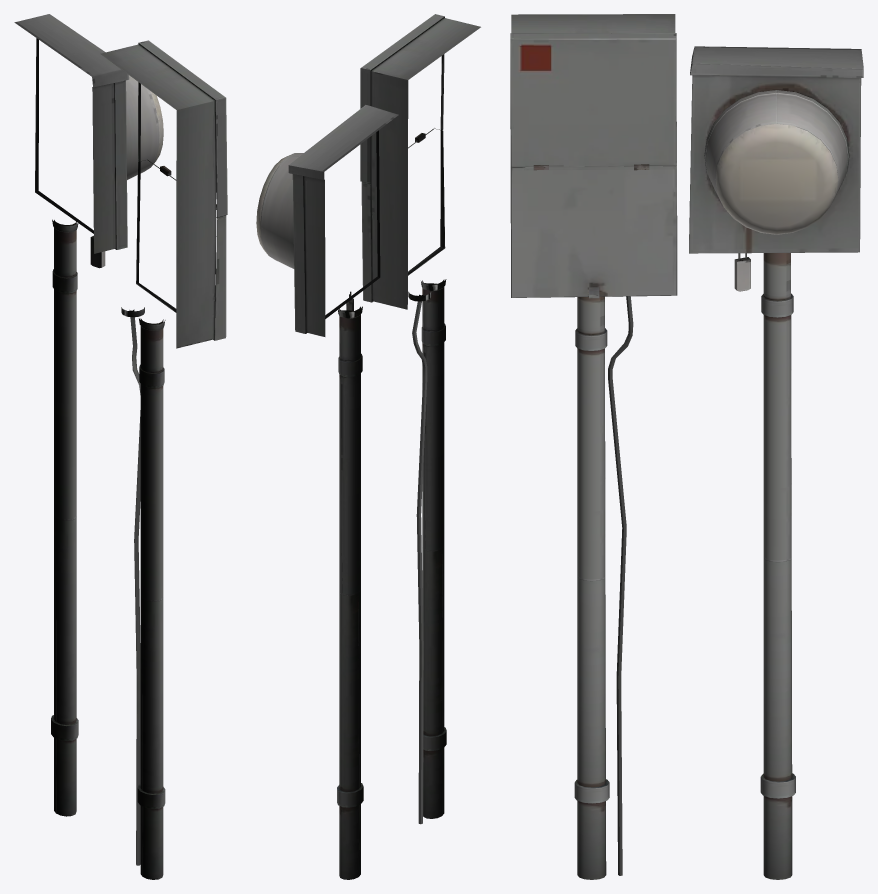
The picture shows the model from 3 angles, left to right: view 1: azimuth 30°, elevation 25°; view 2: azimuth 150°, elevation 25°; view 3: azimuth 270°, elevation 25°; orthographic projection. The views are drawn at different scales.
Parts seen in each view (by area): view 1: body0_model0_lod0_mesh0; view 2: body0_model0_lod0_mesh0; view 3: body0_model0_lod0_mesh0.
Boxes of the visible parts, bbox=[...] form: body0_model0_lod0_mesh0: bbox=[14, 14, 227, 879]; body0_model0_lod0_mesh0: bbox=[256, 14, 480, 879]; body0_model0_lod0_mesh0: bbox=[510, 14, 863, 879].
Size of the model in its own units: 10.68 by 92.06 by 34.48.
1 material, 1 textured.
